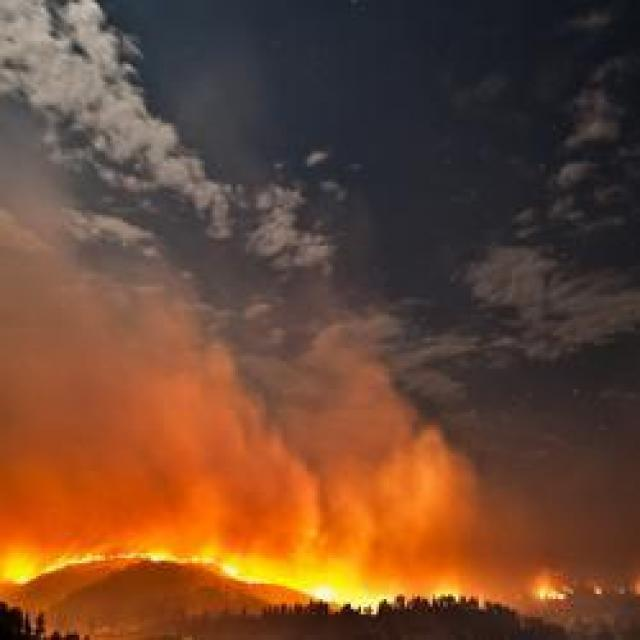Fire: (10, 500, 498, 632)
Smoke: (0, 233, 468, 544)
